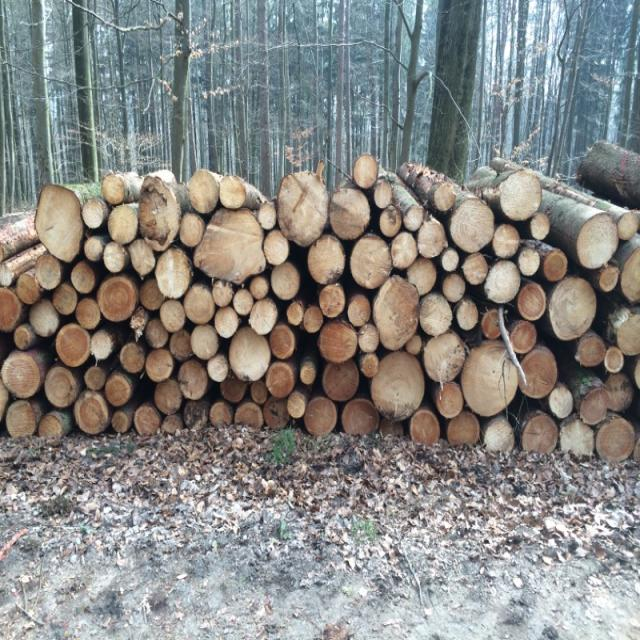wood-log: (195, 211, 267, 283), (460, 342, 520, 417), (276, 172, 328, 245), (34, 183, 82, 260), (369, 353, 423, 421), (375, 277, 421, 351), (548, 278, 596, 344), (137, 181, 180, 247), (448, 198, 496, 252), (230, 326, 272, 382), (576, 214, 618, 270), (424, 331, 468, 382), (501, 168, 544, 220), (350, 237, 392, 290), (332, 187, 372, 241), (520, 345, 559, 398), (155, 248, 193, 300), (3, 350, 44, 397), (307, 236, 346, 284), (317, 319, 357, 364), (98, 275, 137, 321), (596, 417, 635, 460), (484, 260, 521, 302), (321, 362, 359, 402), (56, 325, 92, 367), (419, 294, 454, 337), (342, 399, 380, 438), (76, 393, 109, 437), (522, 412, 558, 452), (44, 365, 76, 409), (558, 416, 593, 456), (304, 397, 338, 438), (189, 173, 221, 215), (447, 409, 480, 448), (107, 205, 139, 245), (185, 283, 216, 324), (8, 400, 40, 439), (177, 357, 207, 398), (30, 297, 60, 338), (605, 373, 636, 411), (517, 281, 547, 320), (416, 218, 445, 258), (270, 262, 300, 300), (580, 388, 610, 426), (483, 418, 515, 453), (408, 259, 439, 295), (410, 409, 440, 446), (128, 238, 156, 276), (617, 310, 640, 356), (249, 298, 279, 333), (266, 362, 295, 398), (156, 376, 184, 413), (509, 321, 539, 355), (577, 333, 606, 368), (0, 287, 22, 333), (268, 322, 296, 358), (622, 248, 640, 304), (390, 232, 418, 268), (437, 384, 465, 419), (192, 326, 220, 361), (139, 275, 167, 310), (492, 224, 520, 259), (147, 348, 175, 382), (178, 214, 206, 248), (264, 230, 290, 266), (37, 412, 68, 442), (76, 297, 103, 331), (320, 282, 347, 316), (105, 373, 131, 408), (36, 256, 62, 291), (219, 374, 248, 405), (352, 155, 379, 188), (214, 306, 241, 338), (462, 254, 489, 286), (52, 282, 78, 315), (160, 299, 186, 331), (144, 317, 170, 349), (120, 342, 146, 374), (548, 387, 573, 420), (347, 295, 372, 328), (135, 407, 161, 438), (83, 198, 108, 230), (71, 262, 95, 295), (263, 398, 289, 428), (102, 172, 126, 204), (103, 243, 126, 276), (235, 402, 263, 429), (544, 250, 568, 281), (170, 329, 192, 362), (443, 273, 468, 302), (91, 330, 115, 360), (457, 298, 478, 331), (518, 248, 541, 278), (596, 263, 619, 293), (618, 211, 640, 240), (109, 408, 131, 436), (207, 351, 228, 380), (303, 307, 326, 333), (210, 402, 233, 428), (380, 209, 402, 236), (211, 279, 233, 306), (358, 324, 378, 353), (530, 213, 550, 242), (85, 365, 107, 391), (375, 180, 393, 210), (234, 290, 255, 315), (287, 392, 305, 420), (131, 307, 149, 335), (606, 346, 625, 372), (86, 235, 104, 262), (162, 414, 185, 435), (14, 325, 33, 349), (249, 274, 268, 298), (250, 380, 268, 405), (287, 300, 303, 326), (301, 362, 317, 387), (443, 250, 461, 272), (0, 377, 9, 418)
